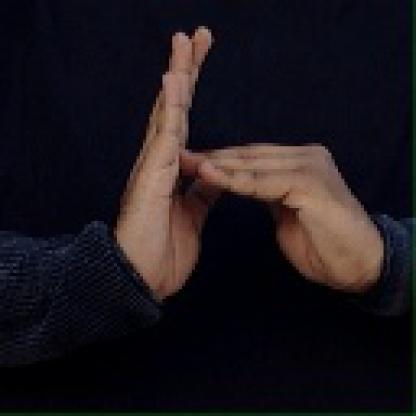Z: (93, 24, 363, 305)
